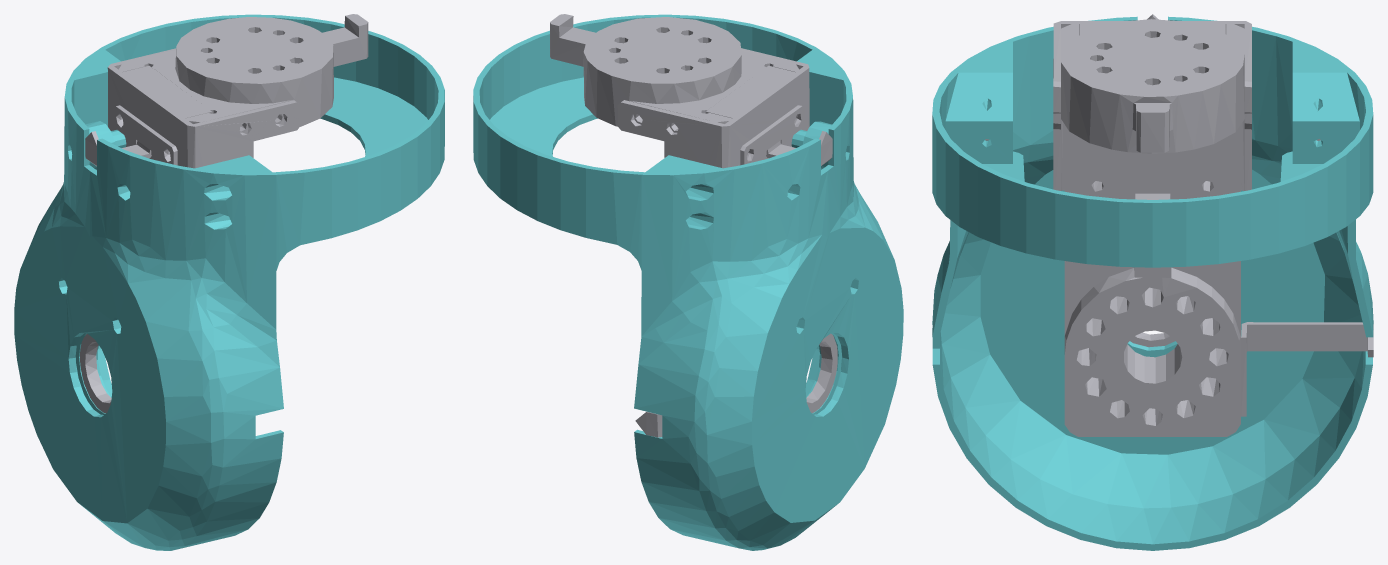
3 views of the same model, side by side, from view 1: azimuth 30°, elevation 25°; view 2: azimuth 150°, elevation 25°; view 3: azimuth 270°, elevation 25° (orthographic). The views are drawn at different scales.
Visible parts, largest first — view 1: link2; view 2: link2; view 3: link2.
Part boxes in pixels (x1,y1,x2,y2): link2: (14,14,444,550); link2: (473,14,903,550); link2: (932,14,1373,550).
Size of the model in its own units: 0.12 by 0.12 by 0.161.
